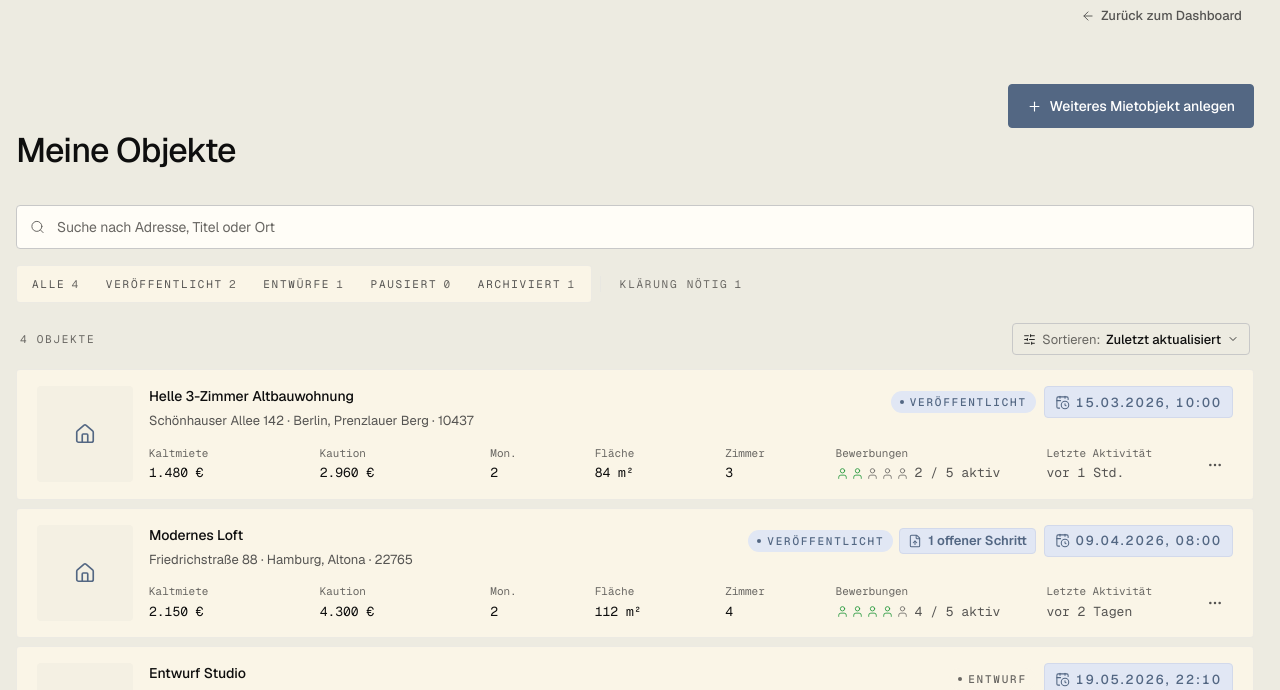
ListingsView › filters by needsAttention when the Klärung nötig filter is active
Click the radio button labelled "Klärung nötig 1". click: (681, 284)
box: [609,270,754,298]
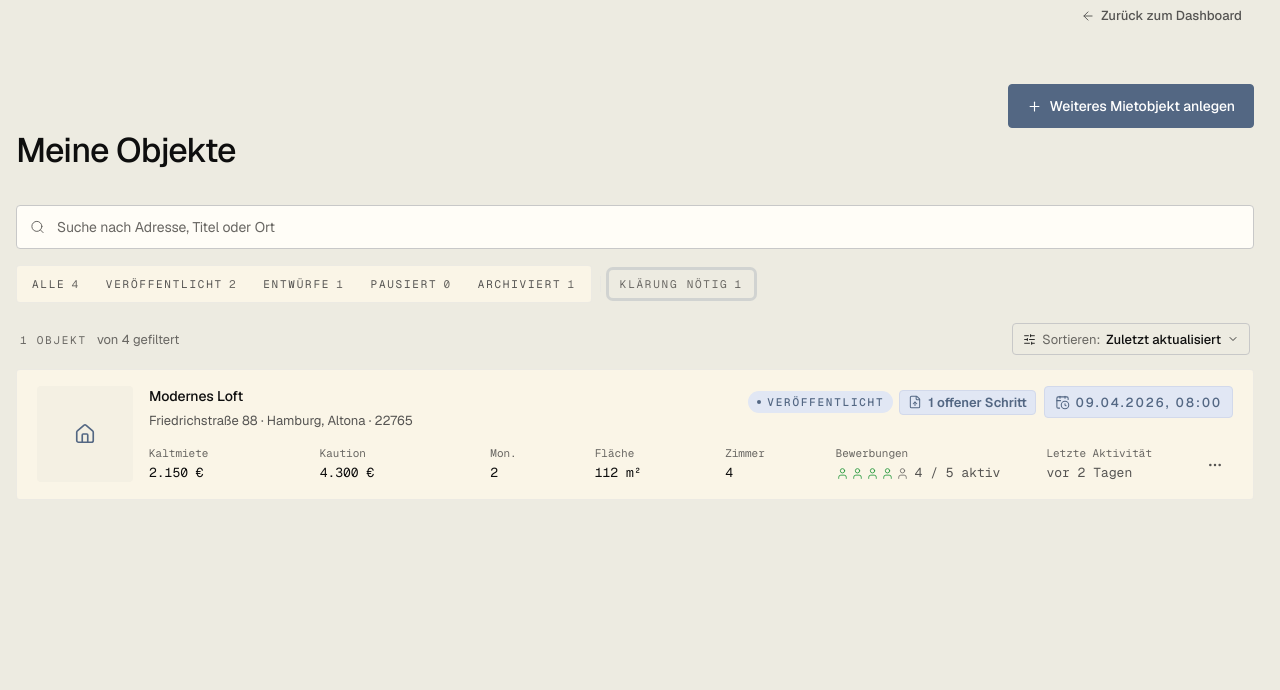
Check: the button "Helle 3-Zimmer Altbauwohnung" is gone
